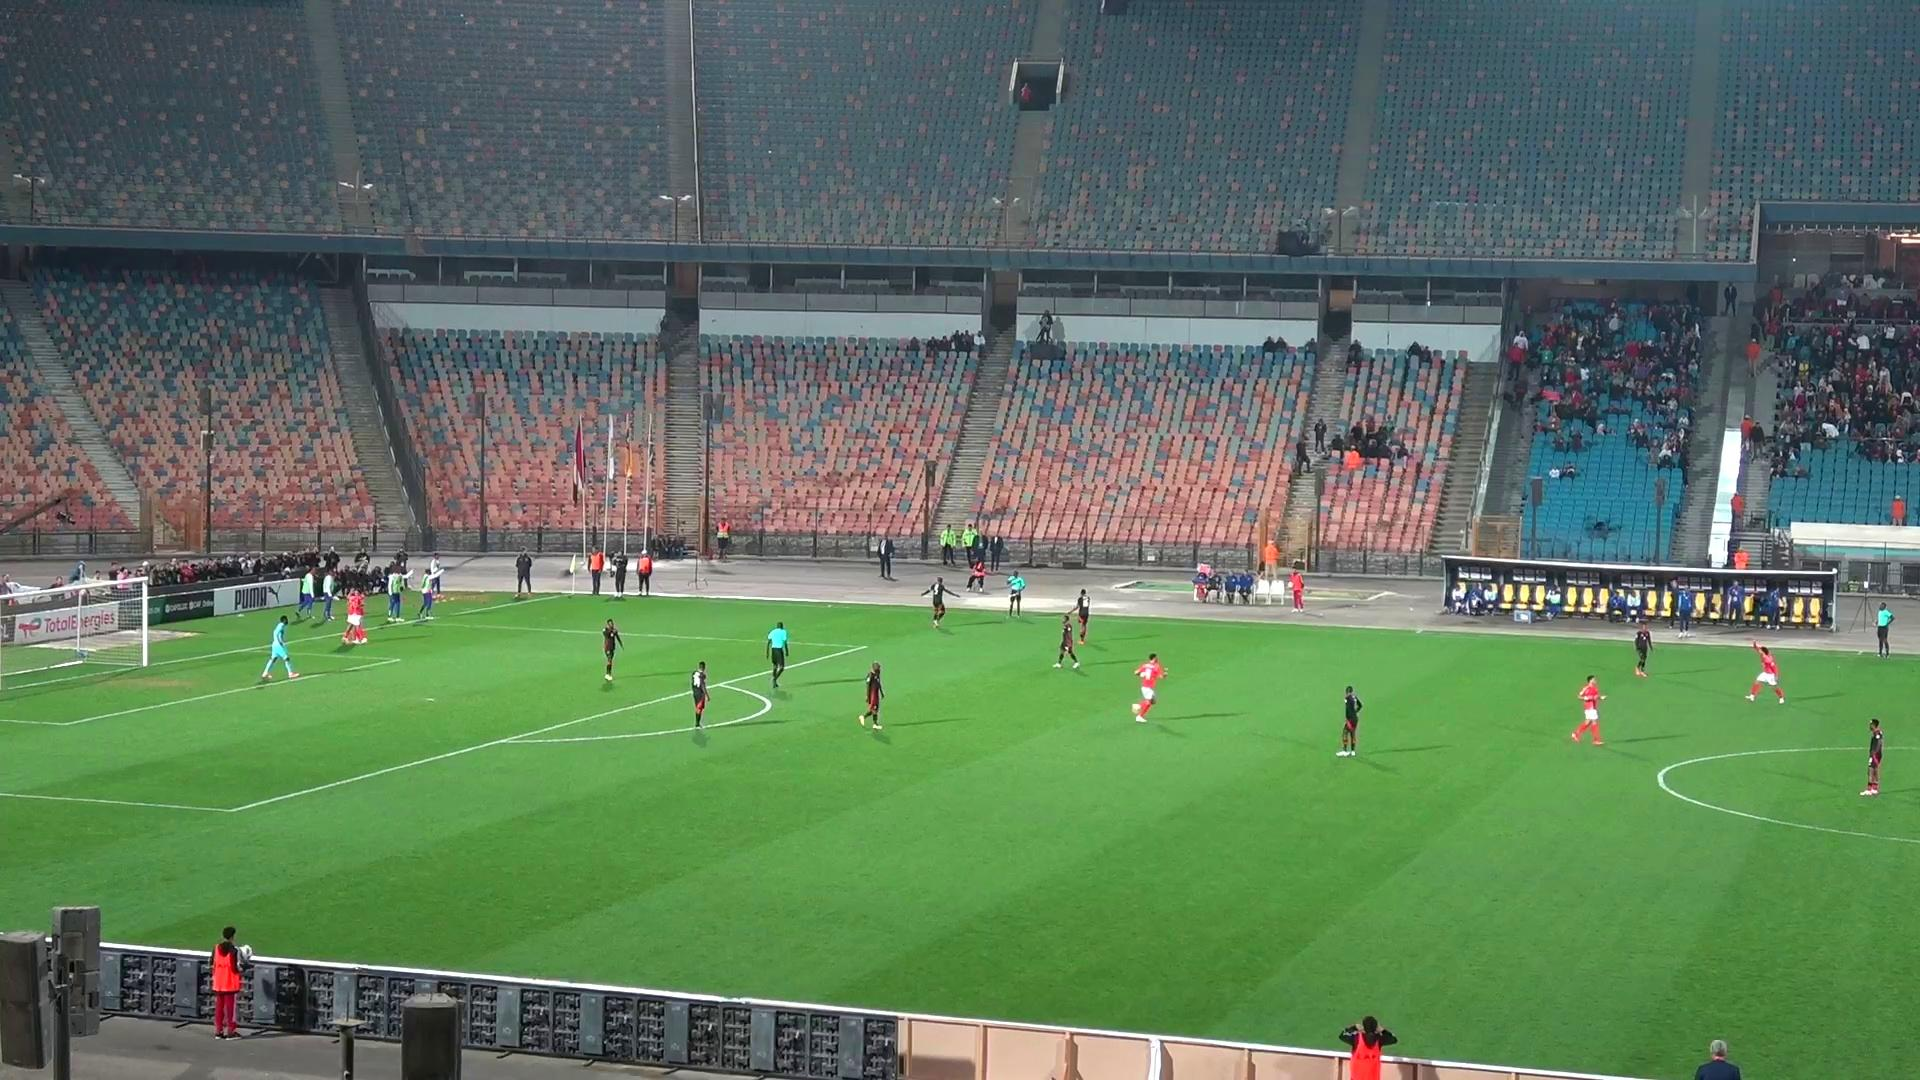GK2: (258, 616, 298, 682)
Refree: (1855, 601, 1895, 655), (764, 622, 789, 680), (1006, 571, 1026, 616)
Team1: (1131, 653, 1167, 723), (1746, 644, 1785, 704), (1571, 676, 1604, 744), (340, 588, 365, 644), (1068, 589, 1091, 644)
Team2: (1859, 717, 1884, 796), (1336, 684, 1364, 756), (1052, 613, 1084, 670), (922, 576, 957, 626), (857, 662, 884, 729), (600, 618, 625, 684), (688, 661, 711, 729), (1633, 621, 1654, 676)
